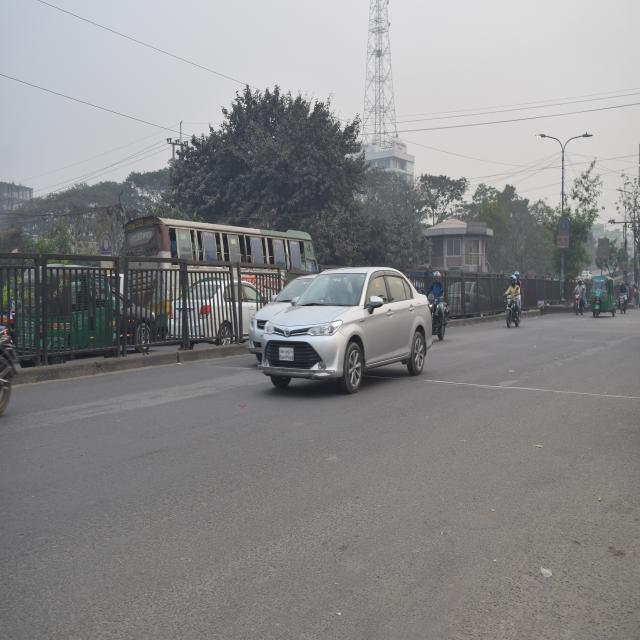bus: (122, 214, 310, 332)
car: (247, 288, 464, 378)
motorbike: (424, 262, 465, 337), (497, 271, 534, 335), (564, 272, 588, 317), (618, 274, 639, 317)
